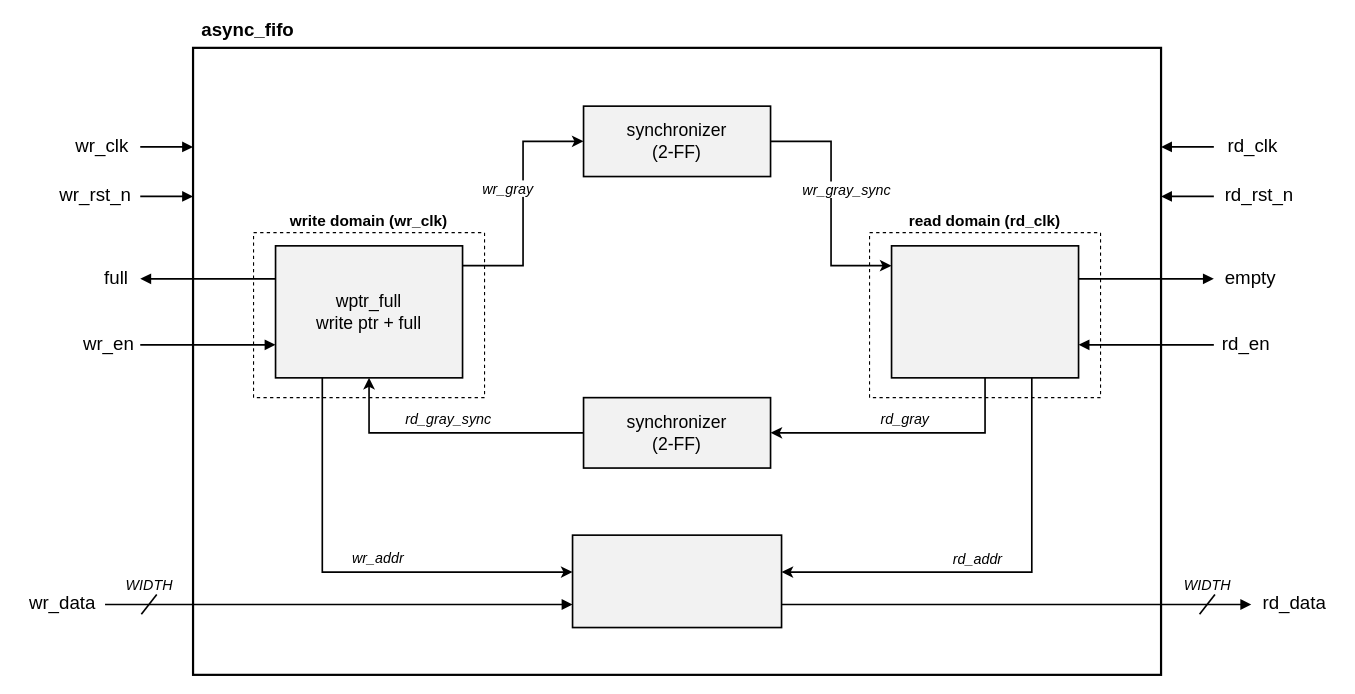
Some shapes in this 1355 by 694 pixel diagram are drawn without their labels. Here are the shapes that lost their labels. From the top down, the centre of each, then its label:
pixel 984 311: rptr_empty read ptr + empty
pixel 676 581: fifomem DEPTH × WIDTH
